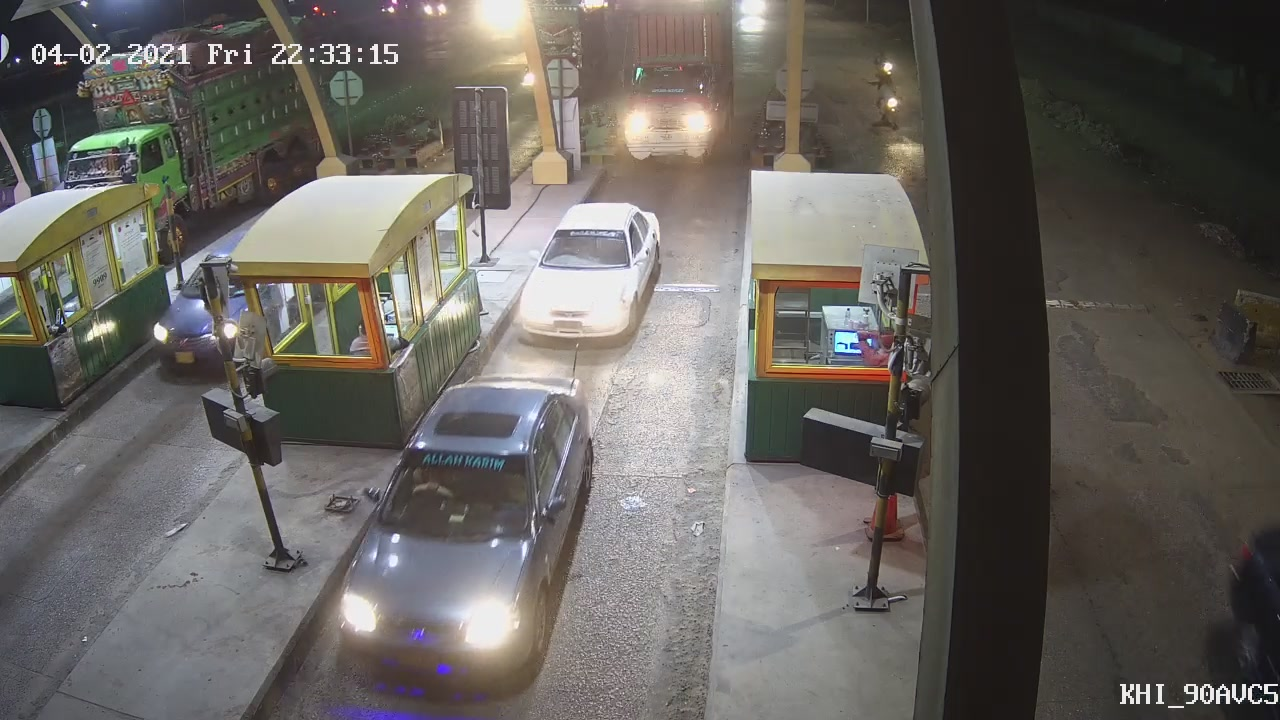F1: (320, 365, 597, 681), (517, 198, 660, 346)
